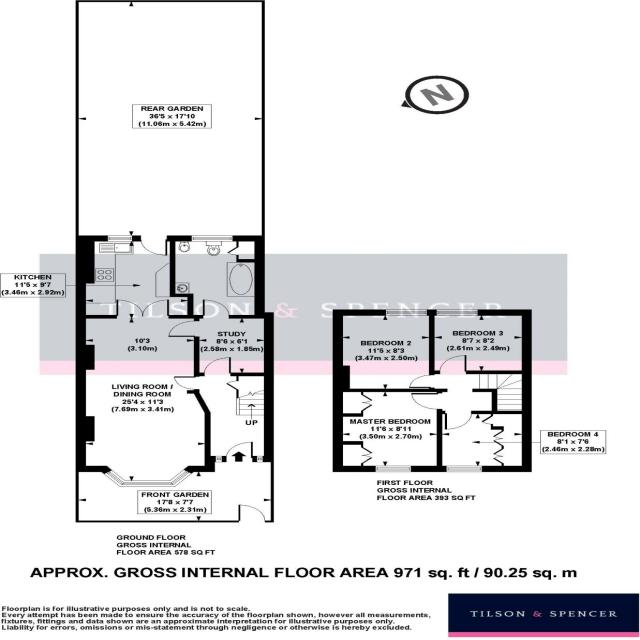DOOR: (225, 441, 254, 464), (202, 356, 232, 377), (438, 354, 468, 375), (409, 392, 444, 410), (444, 409, 474, 430), (140, 235, 168, 256), (202, 299, 231, 319), (237, 504, 267, 523), (167, 320, 200, 337), (408, 374, 436, 389), (172, 376, 200, 390)
DOUBLE DOOR: (116, 298, 171, 319)
ROOM: (74, 299, 215, 488), (75, 235, 194, 319), (332, 388, 443, 472), (332, 309, 435, 392), (167, 299, 274, 377), (428, 309, 532, 374), (436, 410, 532, 472)
WINDOW: (168, 468, 193, 488), (118, 479, 177, 487), (102, 469, 126, 488), (384, 308, 429, 317), (435, 309, 479, 317), (444, 465, 484, 473), (374, 465, 413, 473), (190, 235, 234, 242), (107, 235, 134, 242), (256, 456, 264, 462), (215, 456, 223, 462)
